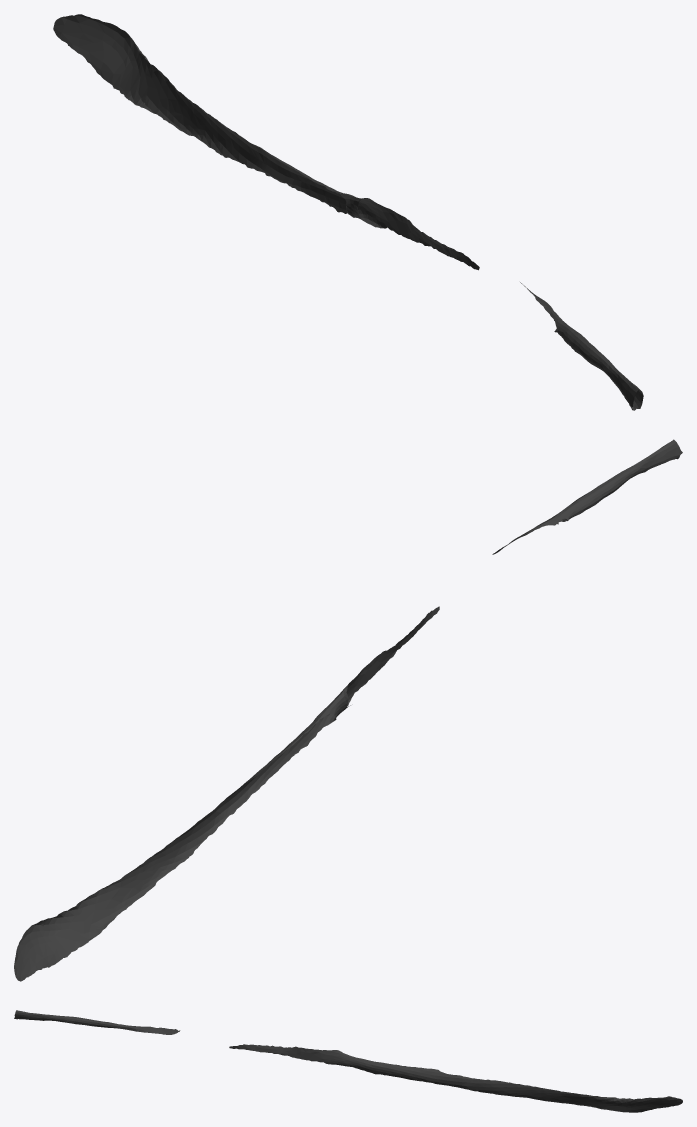
File: tend_lat_dig_extensor.glb
3 renders of one model, top to bottom at view 1: azimuth 30°, elevation 25°; view 2: azimuth 150°, elevation 25°; view 3: azimuth 270°, elevation 25°, orthographic. The views are drawn at different scales.
Visible parts, largest first — view 1: tend_lat_dig_extensor; view 2: tend_lat_dig_extensor; view 3: tend_lat_dig_extensor.
Part boxes in pixels (x1=…): tend_lat_dig_extensor: x1=53, y1=14, x2=643, y2=410; tend_lat_dig_extensor: x1=14, y1=439, x2=682, y2=981; tend_lat_dig_extensor: x1=14, y1=1010, x2=682, y2=1112.
Size of the model in its own units: 0.0693 by 0.0928 by 0.6854.
Materials: 1 (1 with a texture image).
